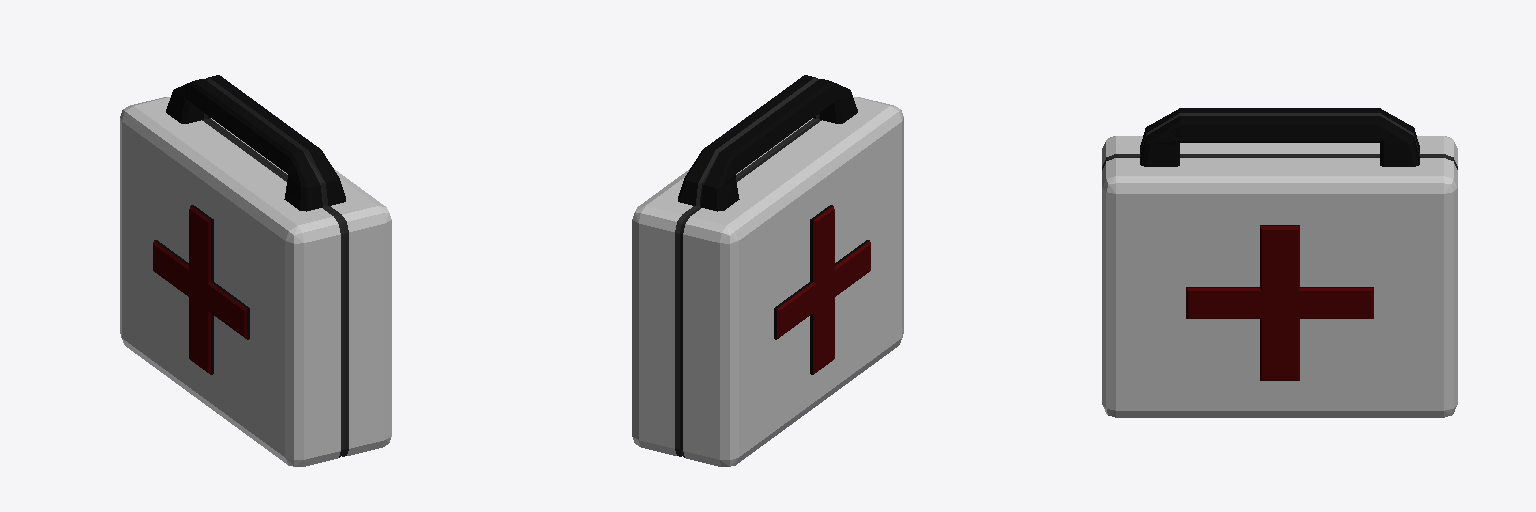
File: medkit.obj
3 views of the same model, side by side, from view 1: azimuth 30°, elevation 25°; view 2: azimuth 150°, elevation 25°; view 3: azimuth 270°, elevation 25° (orthographic).
Parts seen in each view (by area): view 1: Cube.001; view 2: Cube.001; view 3: Cube.001.
Boxes of the visible parts, x1,y1,x2,y2 form: Cube.001: [120, 75, 391, 466]; Cube.001: [632, 75, 903, 466]; Cube.001: [1102, 108, 1457, 417].
Size of the model in its own units: 1.21 by 2.85 by 3.24.